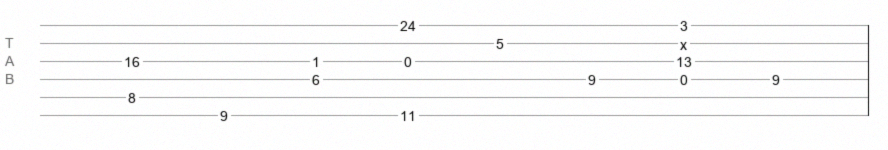0: (404, 54, 412, 64), (680, 72, 688, 82)
1: (312, 54, 320, 64)
11: (400, 108, 416, 118)
13: (676, 54, 692, 64)
16: (124, 54, 140, 64)
24: (400, 18, 416, 28)
3: (680, 18, 688, 28)
5: (496, 36, 504, 46)
6: (312, 72, 320, 82)
8: (128, 90, 136, 100)
9: (220, 108, 228, 118), (588, 72, 596, 82), (772, 72, 780, 82)
x: (680, 37, 687, 45)
